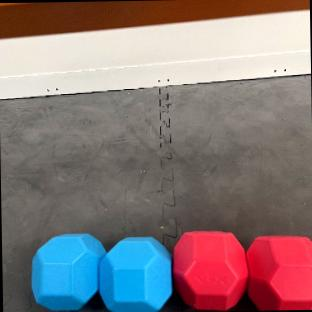V5_BLUE: (31, 233, 169, 312)
V5_RED: (173, 230, 312, 310)
